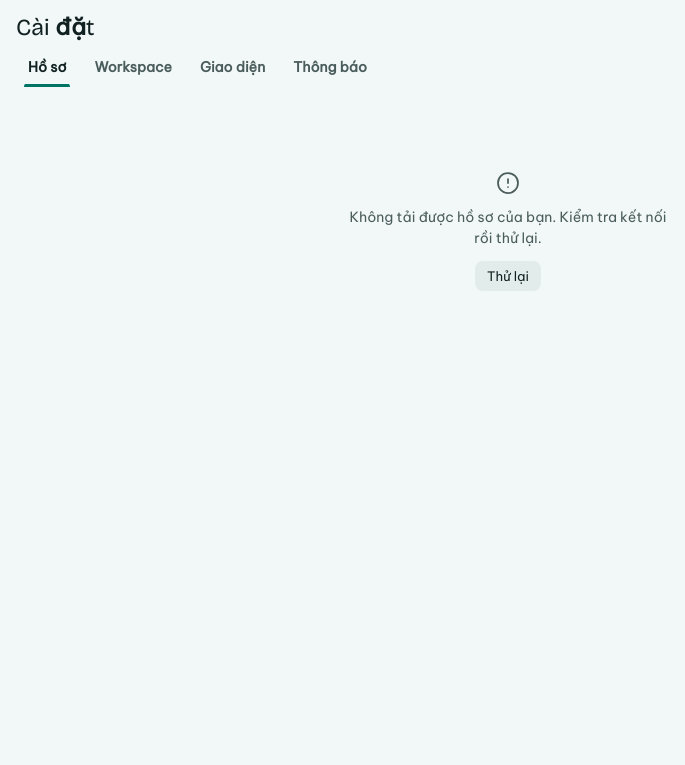
Test: SettingsScreen: Hồ sơ › says it could not load, and retries
The image size is (685, 765).
Expected: the text "Không tải được hồ sơ của bạn. Kiểm tra kết nối rồi thử lại." is shown, top-left (348, 207), bottom-right (668, 249)
Click the button "Thử lại": click(508, 276) top-left (475, 261), bottom-right (541, 291)
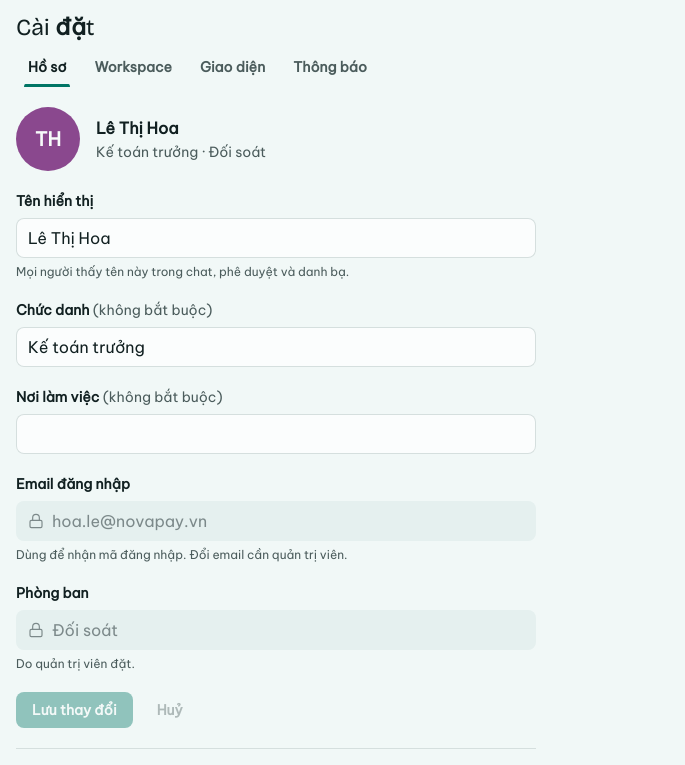
Result: the field labelled "Tên hiển thị" is shown at top-left (28, 218), bottom-right (524, 258)
